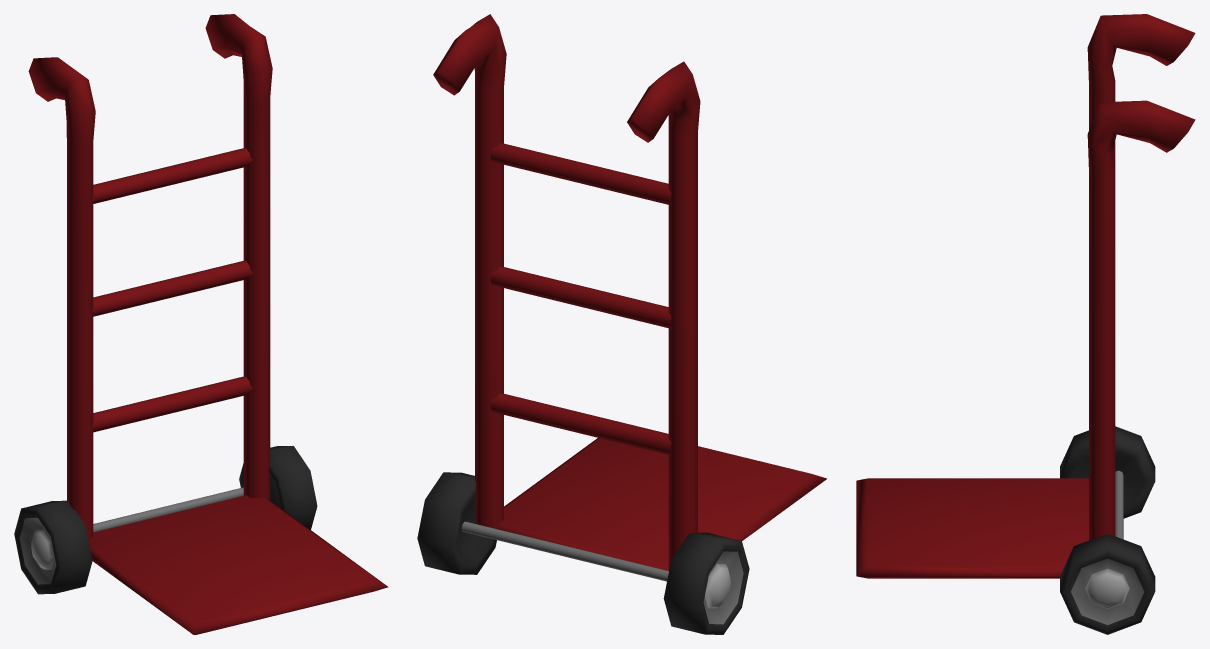
The model's file is carrinho.fbx.
3 renders of one model, left to right at view 1: azimuth 30°, elevation 25°; view 2: azimuth 150°, elevation 25°; view 3: azimuth 270°, elevation 25°, orthographic. The views are drawn at different scales.
Parts seen in each view (by area): view 1: Carrinho; view 2: Carrinho; view 3: Carrinho.
Boxes of the visible parts, x1=… form: Carrinho: x1=14, y1=14, x2=388, y2=634; Carrinho: x1=417, y1=14, x2=826, y2=634; Carrinho: x1=856, y1=14, x2=1195, y2=634.
Size of the model in its own units: 0.7165 by 1.35 by 0.8088.
